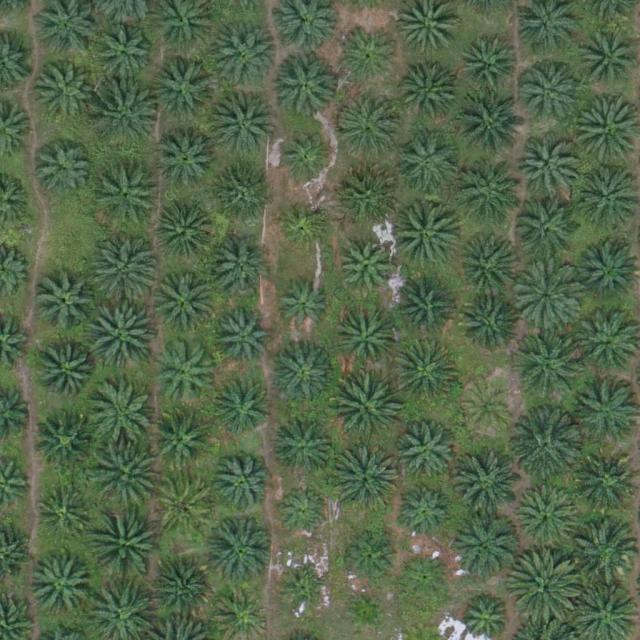Healthy: (92, 165, 163, 236), (569, 515, 640, 586), (511, 411, 582, 482), (511, 333, 582, 404), (330, 374, 401, 445), (86, 382, 157, 453), (90, 80, 160, 151), (151, 54, 221, 125), (209, 90, 279, 161), (337, 90, 407, 161), (455, 90, 525, 161), (512, 260, 582, 331), (510, 549, 580, 620), (330, 444, 400, 515), (206, 515, 276, 586), (91, 505, 161, 576), (90, 440, 160, 511), (453, 452, 523, 523), (450, 510, 520, 581), (88, 235, 158, 305), (212, 19, 282, 89), (387, 199, 457, 269), (392, 338, 462, 408), (90, 302, 160, 372), (157, 201, 220, 264), (157, 128, 220, 191), (274, 55, 337, 118), (344, 165, 407, 228), (399, 60, 462, 123), (395, 132, 458, 195), (454, 232, 517, 295), (460, 169, 523, 232), (519, 61, 582, 124), (517, 134, 580, 197), (272, 416, 335, 479), (152, 339, 215, 402), (150, 408, 213, 471), (154, 475, 217, 538), (35, 271, 97, 334), (32, 141, 94, 204), (34, 63, 96, 126), (92, 25, 154, 88), (210, 168, 272, 231), (213, 236, 275, 299), (390, 275, 452, 338), (513, 200, 575, 263), (151, 559, 213, 622), (517, 487, 579, 550), (455, 292, 517, 355), (395, 421, 457, 484), (335, 308, 397, 371), (271, 345, 333, 408), (211, 453, 273, 516), (36, 339, 98, 402), (36, 410, 98, 473), (155, 272, 217, 334), (29, 557, 91, 619), (574, 455, 636, 517), (278, 198, 333, 253), (278, 127, 333, 182), (338, 240, 393, 295), (398, 550, 453, 605), (398, 485, 453, 540), (276, 486, 331, 541), (215, 381, 270, 436), (214, 313, 269, 368), (36, 485, 91, 540), (275, 280, 329, 335), (343, 29, 397, 84), (461, 35, 515, 90), (342, 531, 396, 586)
Small: (342, 588, 389, 636), (283, 571, 330, 618)
Yellow: (461, 382, 516, 437)
